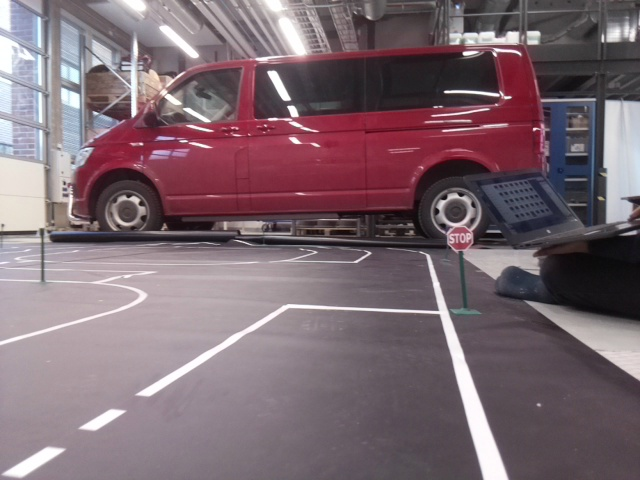Stop: (446, 225, 472, 252)
